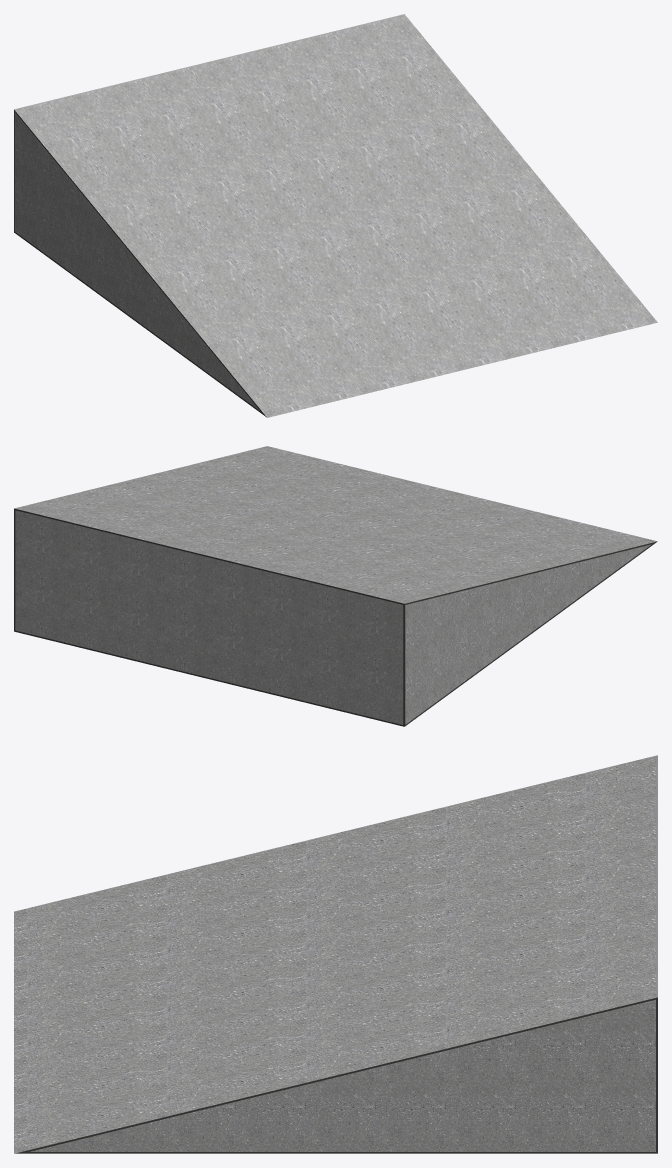
The model's file is xiemian.gltf.
3 renders of one model, top to bottom at view 1: azimuth 30°, elevation 25°; view 2: azimuth 150°, elevation 25°; view 3: azimuth 270°, elevation 25°, orthographic. The views are drawn at different scales.
Parts seen in each view (by area): view 1: 对象021; view 2: 对象021; view 3: 对象021.
Boxes of the visible parts, x1,y1,x2,y2 form: 对象021: (14, 14, 657, 417); 对象021: (14, 446, 657, 726); 对象021: (14, 755, 657, 1153).
Bounding box in the file's own units: 164 × 49.34 × 184.
2 materials, 2 textured.
